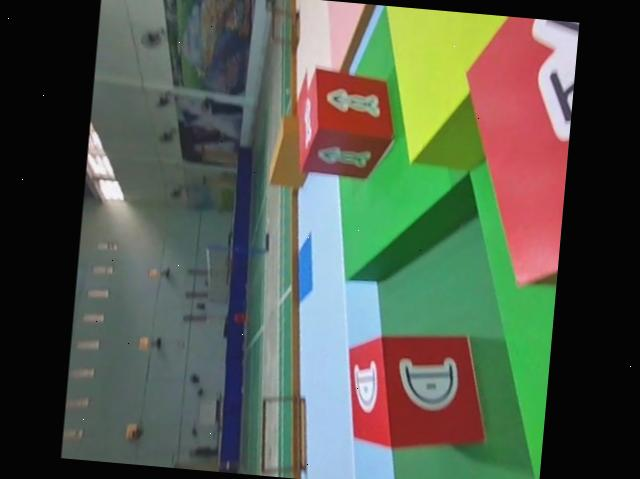R2 Real: (442, 12, 579, 292), (334, 320, 501, 459), (289, 60, 398, 182)
